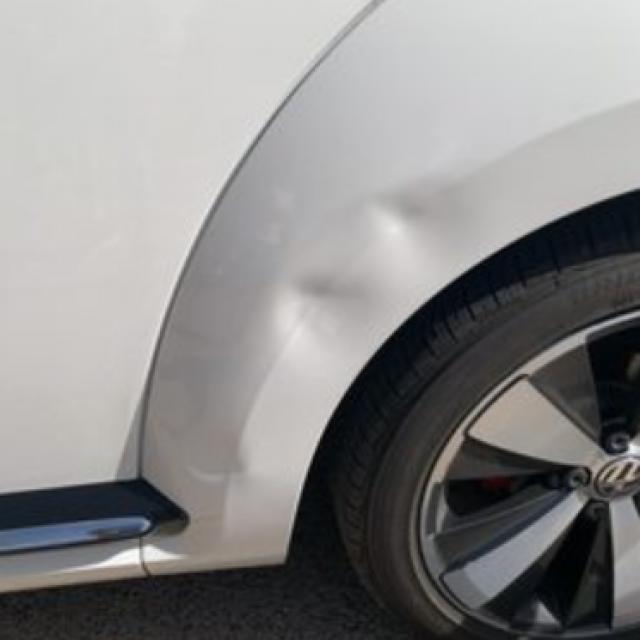dents: (352, 170, 463, 256), (276, 274, 358, 357)
